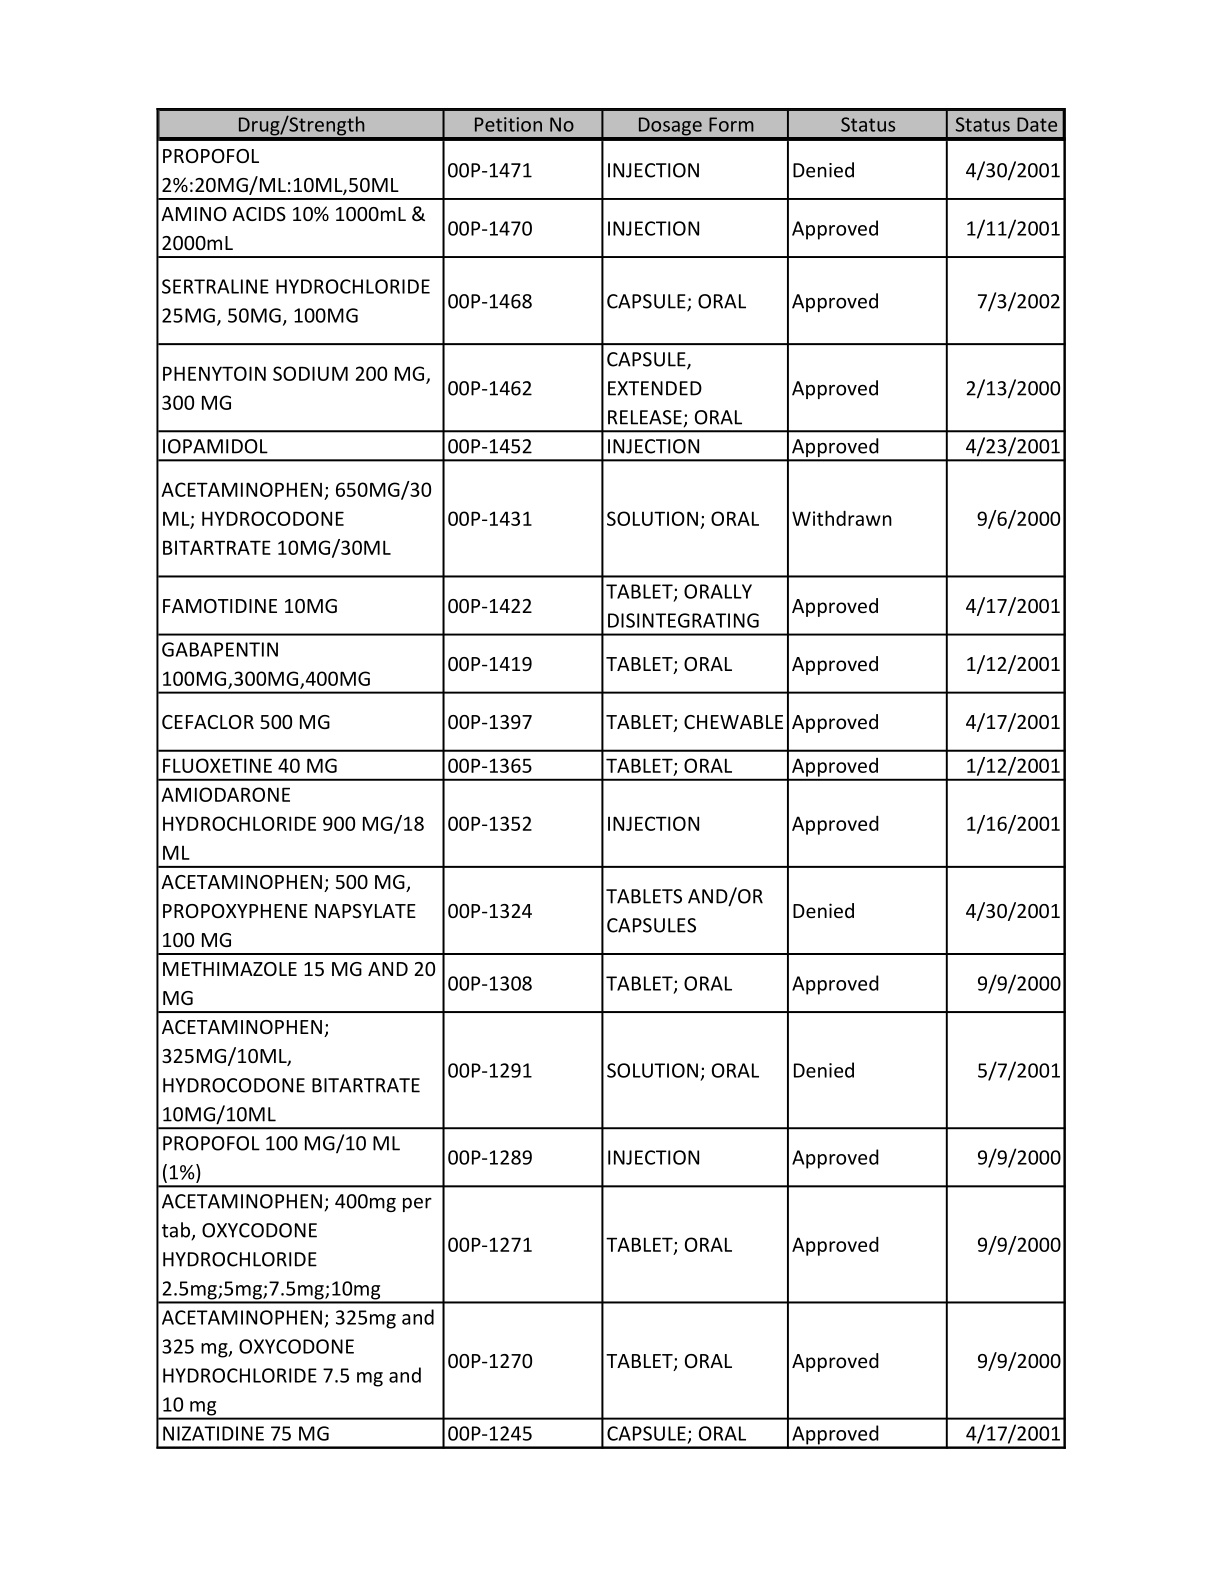full_lined: (156, 105, 1067, 1450)
